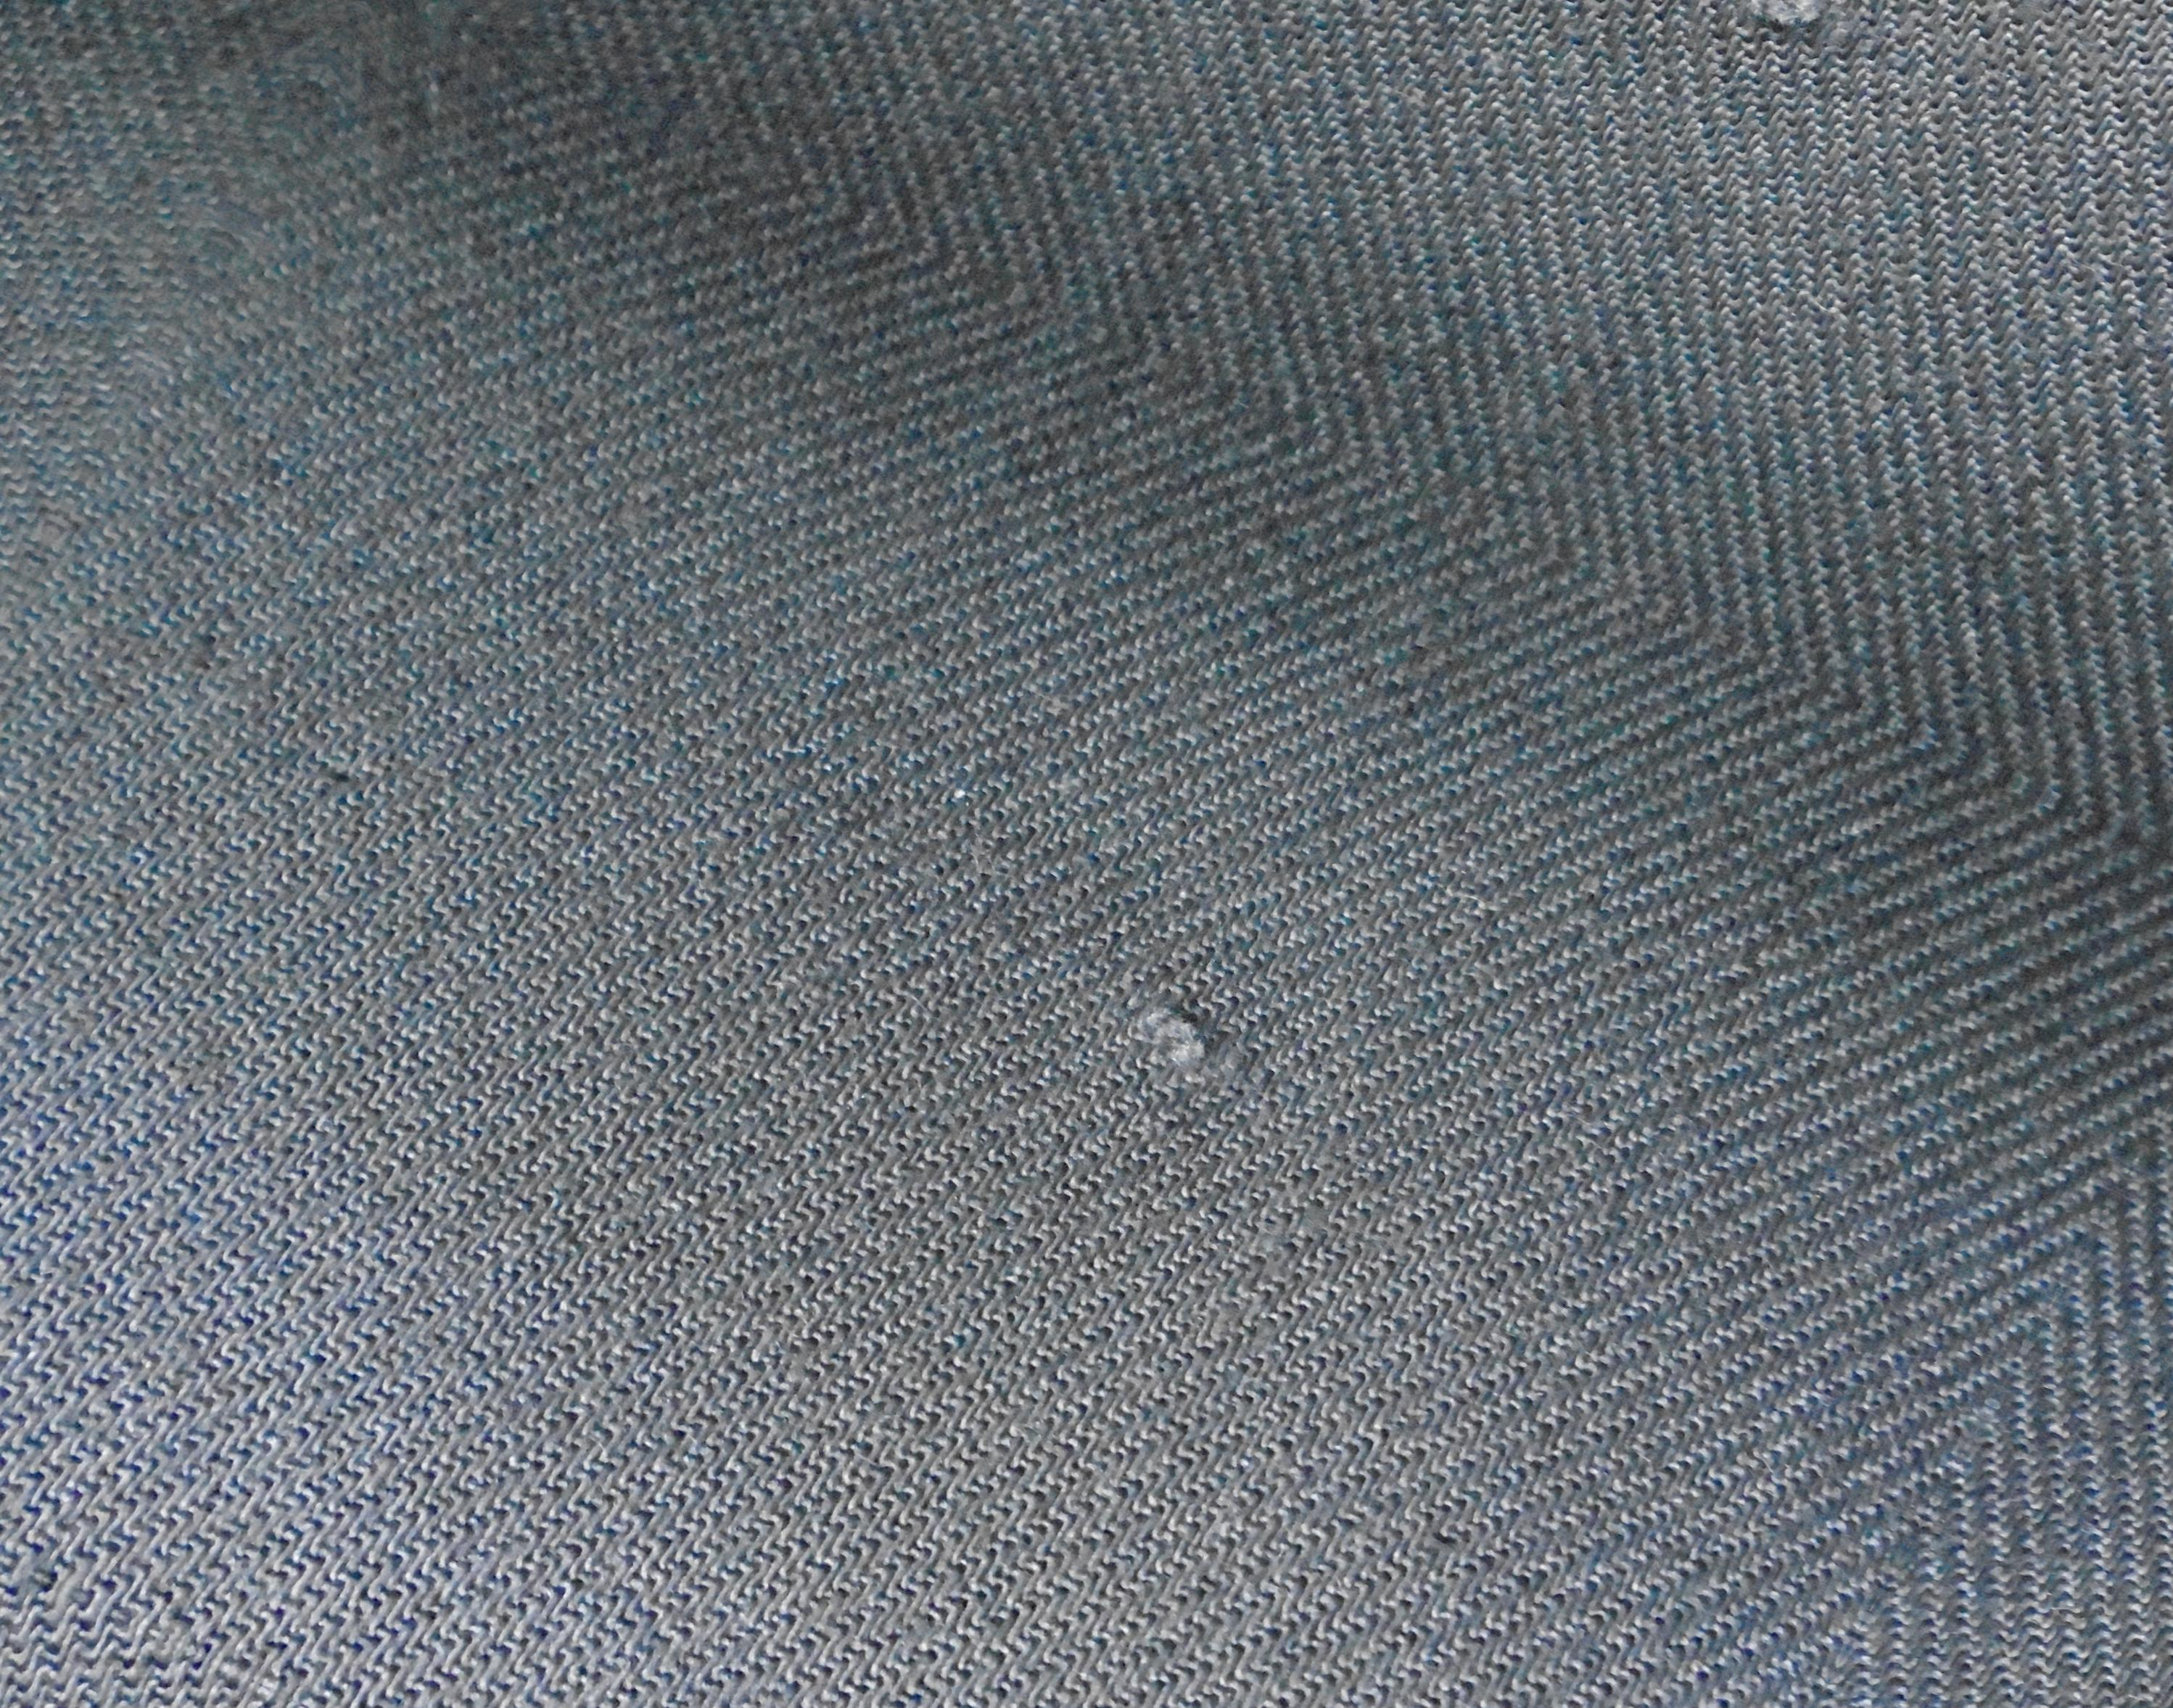knot: (1111, 990, 1258, 1117)
